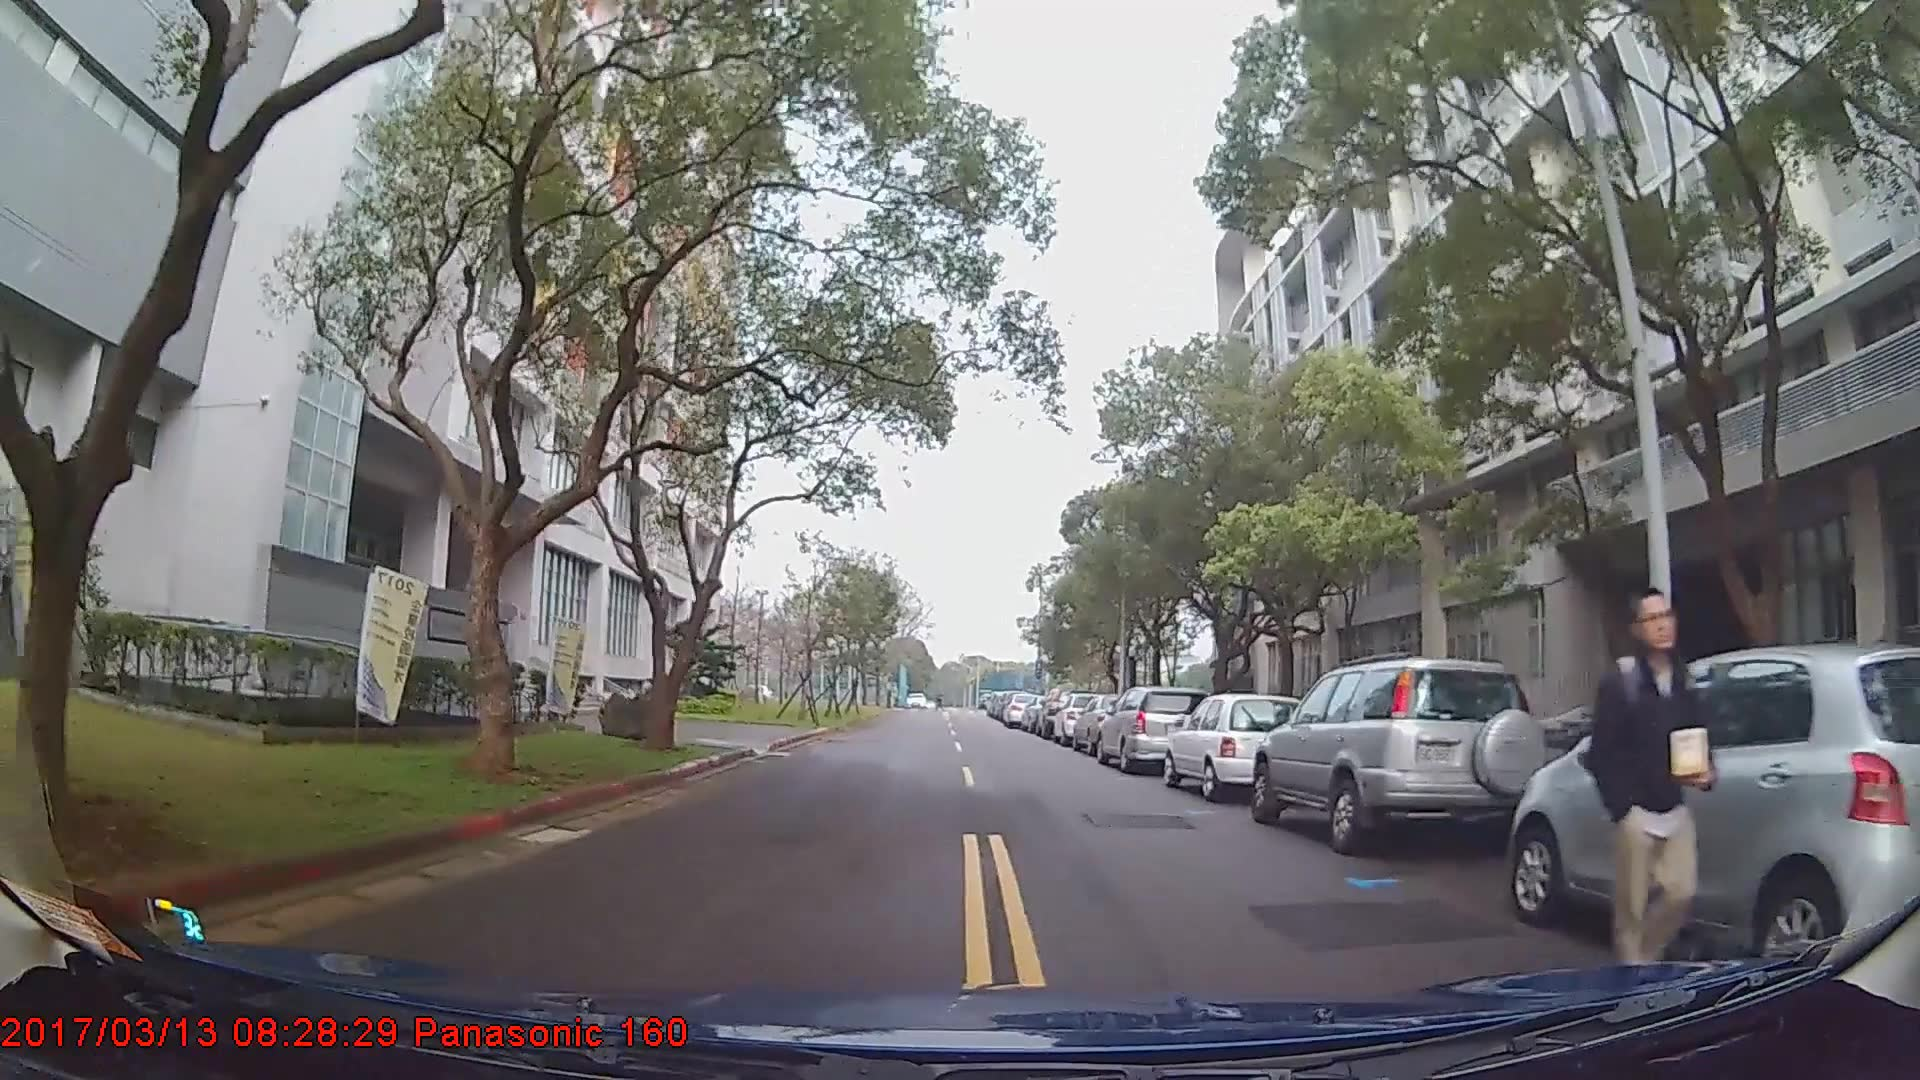pedestrian: (1586, 585, 1718, 1005)
vehicle: (1508, 638, 1920, 985), (1251, 652, 1552, 856), (1161, 690, 1309, 800), (1094, 682, 1210, 771), (1001, 688, 1042, 727)
